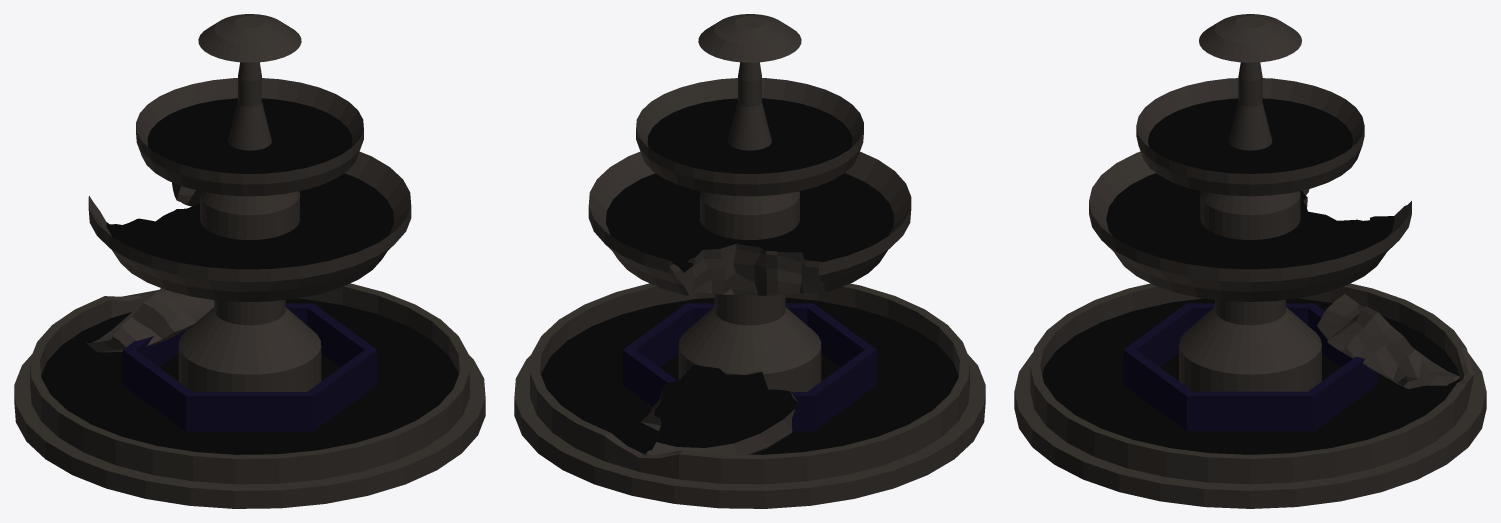
File: fountain.fbx
The picture shows the model from 3 angles, left to right: view 1: azimuth 30°, elevation 25°; view 2: azimuth 150°, elevation 25°; view 3: azimuth 270°, elevation 25°; orthographic projection.
Visible parts, largest first — view 1: Broken Piece; view 2: Broken Piece; view 3: Broken Piece.
Part boxes in pixels (x1,y1,x2,y2): Broken Piece: (14, 14, 485, 508); Broken Piece: (514, 14, 985, 508); Broken Piece: (1014, 14, 1486, 508).
Bounding box in the file's own units: 721 × 653 × 721.
